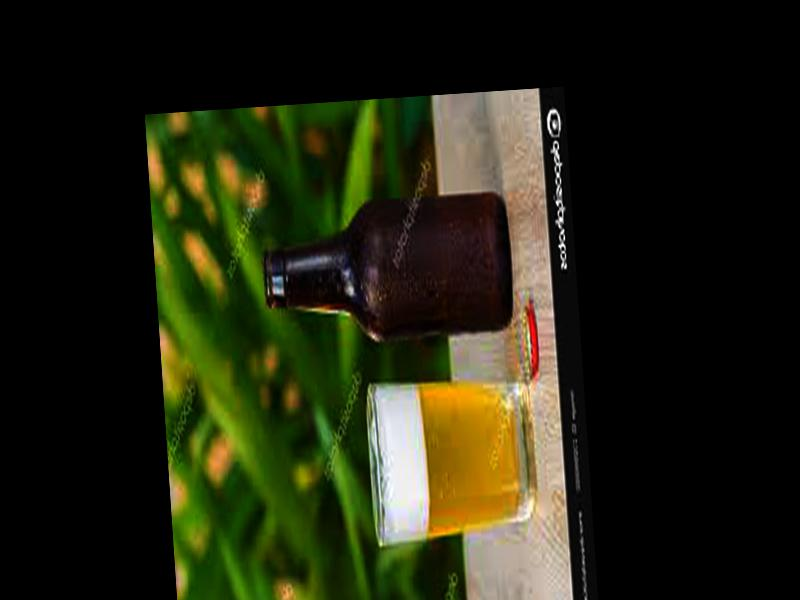Beer: (261, 197, 516, 346)
